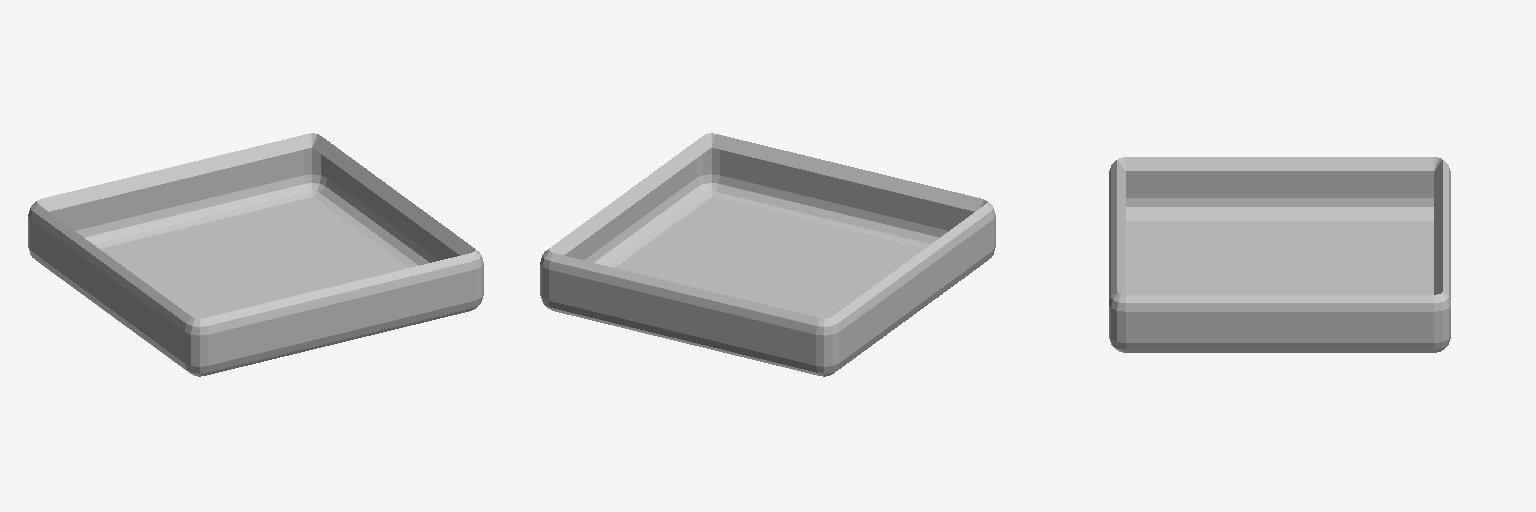
The model's file is surround.obj.
The picture shows the model from 3 angles: view 1: azimuth 30°, elevation 25°; view 2: azimuth 150°, elevation 25°; view 3: azimuth 270°, elevation 25°; orthographic projection.
Parts seen in each view (by area): view 1: surround; view 2: surround; view 3: surround.
Part boxes in pixels (x1,y1,x2,y2): surround: (28, 133, 483, 376); surround: (540, 133, 995, 376); surround: (1109, 157, 1450, 352).
Bounding box in the file's own units: 5 × 0.9666 × 5.